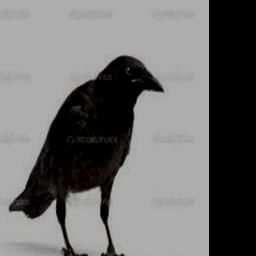Crow: (8, 55, 164, 256)
